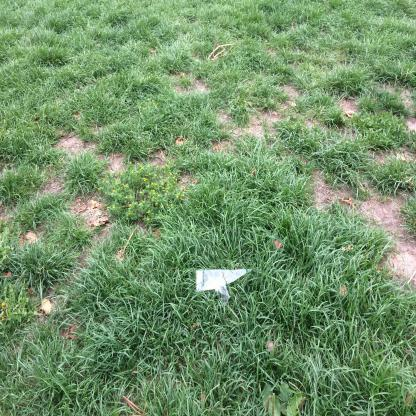plastik: (197, 270, 250, 303)
